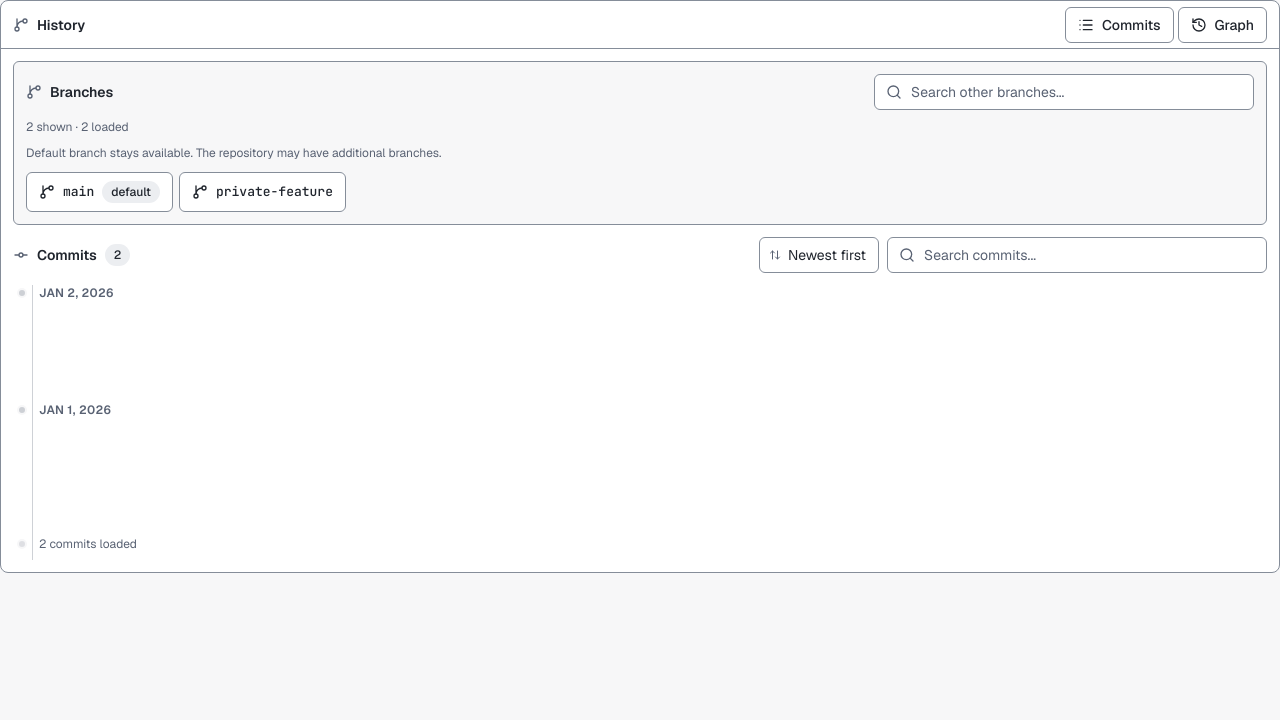
Scenario: uses the caller token to load private branch history
Click the button "private-feature" at [262, 192], box [179,172,346,212]
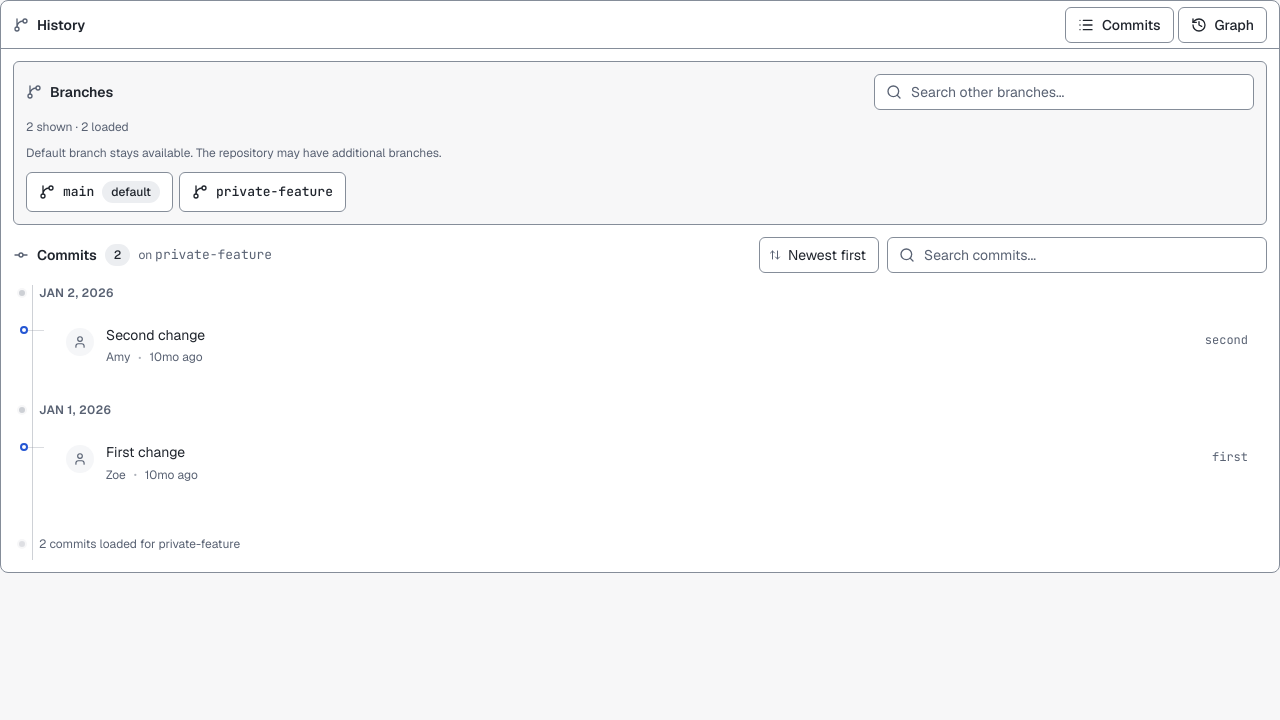
Check: the text "2 commits loaded for private-feature" is shown, box [39,536,240,552]
